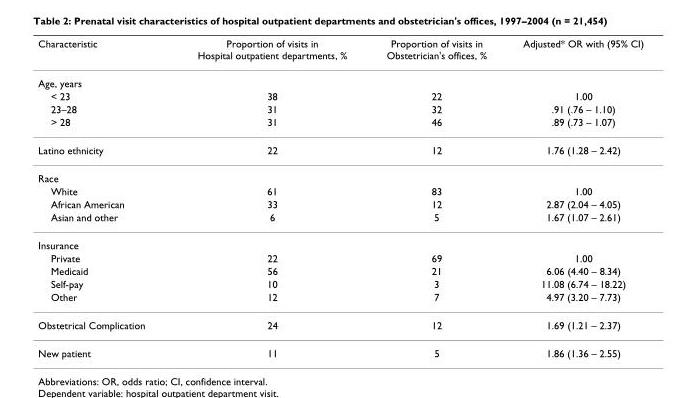table: (37, 37, 643, 358)
table column: (170, 37, 366, 358), (504, 37, 643, 358), (366, 37, 504, 358), (37, 37, 170, 358)
table column header: (37, 37, 643, 68)
table projected row header: (37, 68, 643, 89), (37, 163, 643, 184), (37, 230, 643, 251)
table row: (37, 37, 643, 68), (37, 135, 643, 163), (37, 310, 643, 338), (37, 68, 643, 89), (37, 163, 643, 184), (37, 230, 643, 251), (37, 115, 643, 135), (37, 210, 643, 230), (37, 290, 643, 310), (37, 338, 643, 358), (37, 89, 643, 102), (37, 102, 643, 115), (37, 184, 643, 197), (37, 197, 643, 210), (37, 251, 643, 264), (37, 264, 643, 277), (37, 277, 643, 290)
